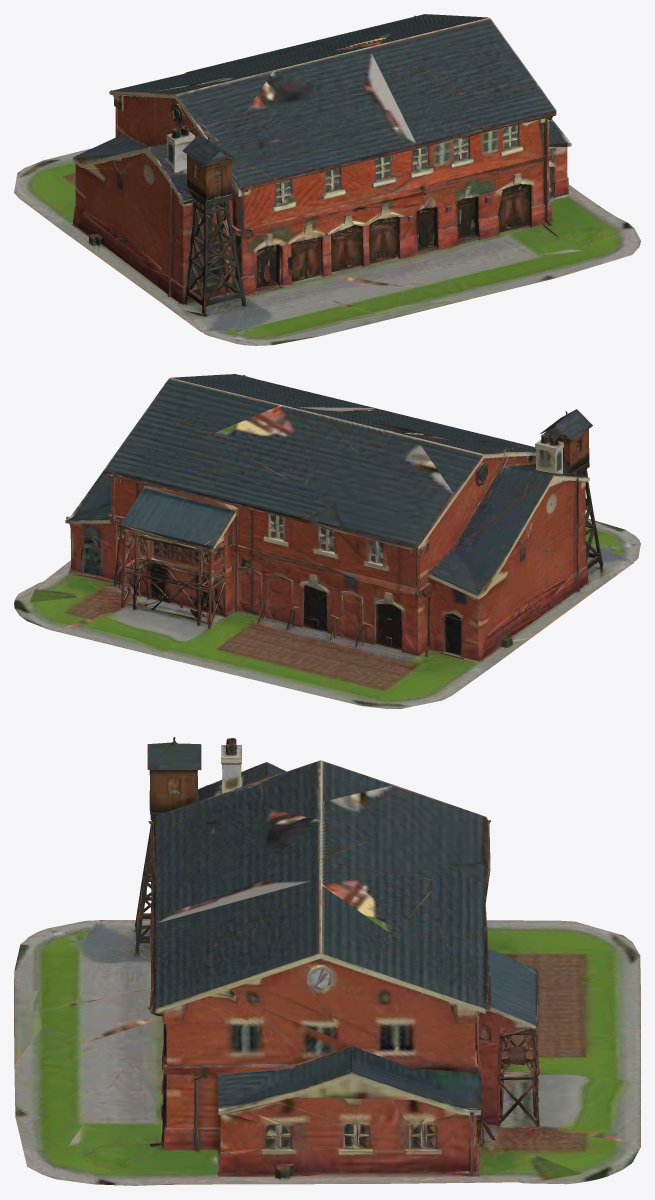
File: station_wh_3.glb
3 renders of one model, top to bottom at view 1: azimuth 30°, elevation 25°; view 2: azimuth 150°, elevation 25°; view 3: azimuth 270°, elevation 25°, orthographic. The views are drawn at different scales.
Visible parts, largest first — view 1: normalize; view 2: normalize; view 3: normalize.
Boxes of the visible parts, <box> form: normalize: <box>14,14,640,345</box>; normalize: <box>14,374,640,708</box>; normalize: <box>14,737,640,1185</box>.
Size of the model in its own units: 0.9996 by 0.3719 by 1.
1 material, 1 textured.
